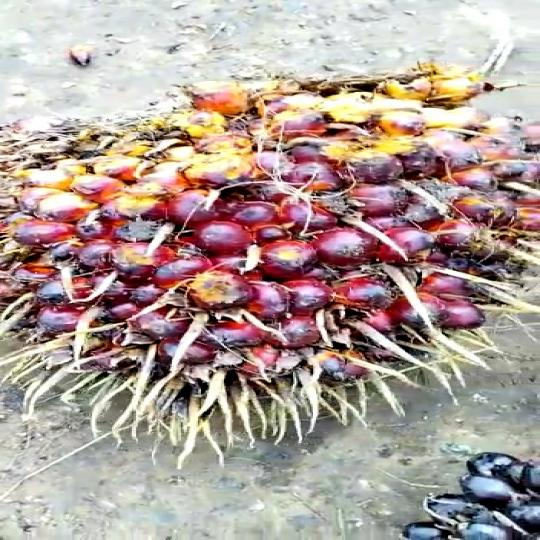masak: (0, 59, 540, 462)
